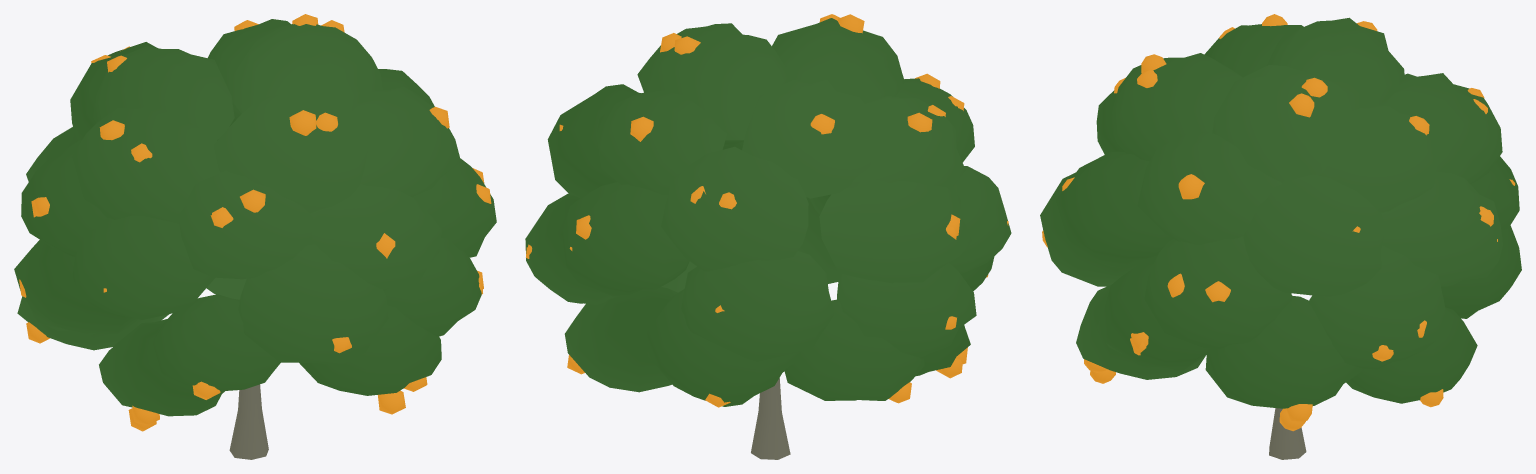
The model's file is Blender_CitrusTree_1.glb.
3 renders of one model, left to right at view 1: azimuth 30°, elevation 25°; view 2: azimuth 150°, elevation 25°; view 3: azimuth 270°, elevation 25°, orthographic.
Parts seen in each view (by area): view 1: Blender_CitrusTree_1; view 2: Blender_CitrusTree_1; view 3: Blender_CitrusTree_1.
Boxes of the visible parts, x1,y1,x2,y2 form: Blender_CitrusTree_1: [14, 14, 496, 459]; Blender_CitrusTree_1: [525, 14, 1011, 459]; Blender_CitrusTree_1: [1040, 14, 1521, 459].
Bounding box in the file's own units: 5.25 × 4.99 × 5.34.
